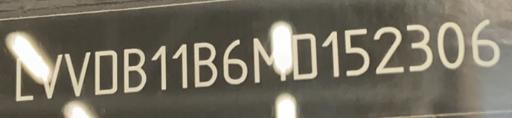letter: (469, 17, 503, 71), (435, 21, 467, 76), (252, 35, 288, 83), (374, 25, 404, 78), (406, 22, 436, 74), (342, 26, 370, 80), (290, 32, 318, 84), (191, 41, 219, 90), (222, 37, 248, 89), (36, 53, 64, 101), (91, 46, 119, 94), (62, 49, 90, 95), (8, 54, 34, 102), (122, 45, 146, 94), (150, 43, 168, 91), (322, 30, 340, 76), (172, 42, 188, 89)
